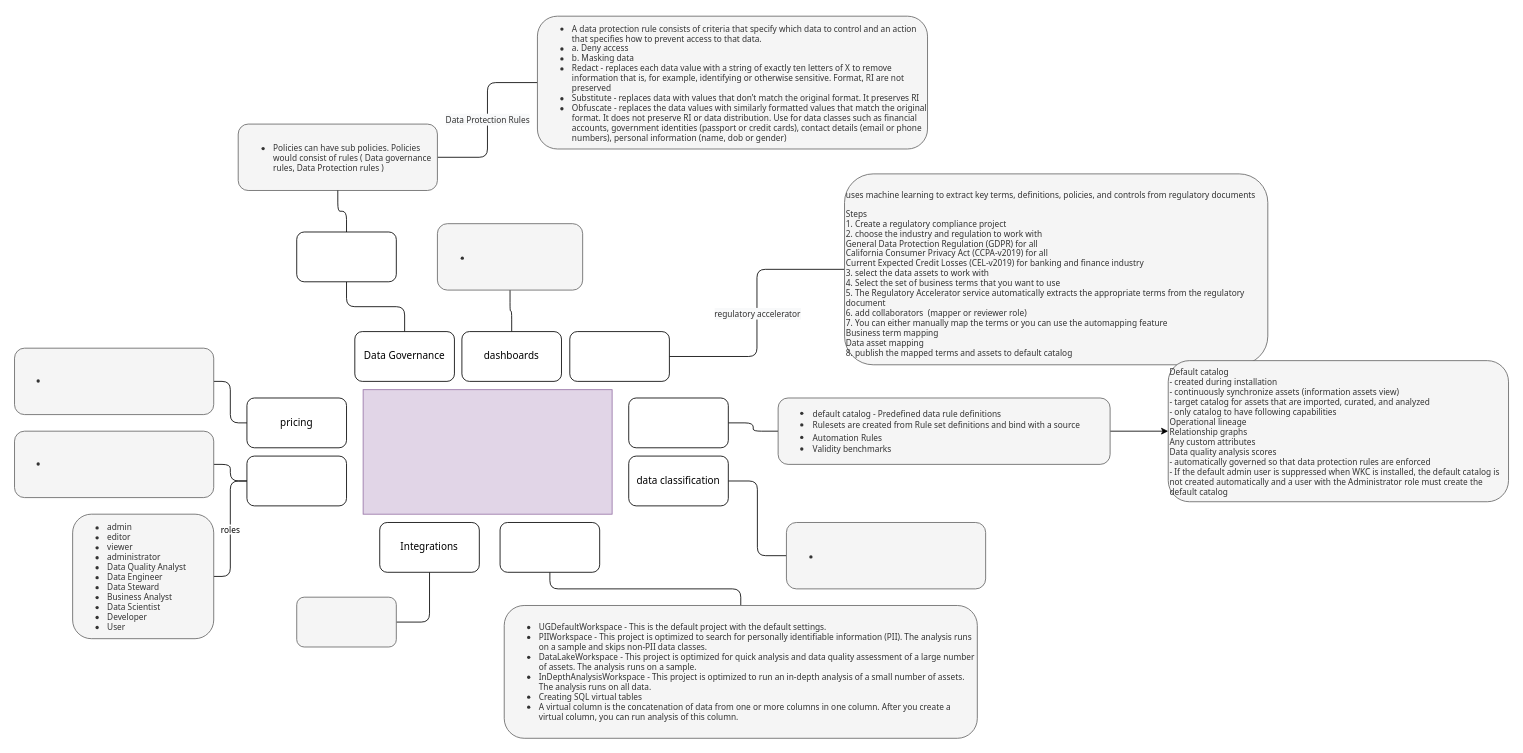
The diagram is 1523 pixels wide and 753 high, and some of its shapes have lost their labels. Here are the shapes that lost their labels. From the top down, the centre of each, then its label:
the point at 346,256: Policies
the point at 619,356: Data privacy
the point at 678,422: Data Catalog
the point at 487,451: IBM Watson Knowledge Catalog
the point at 296,480: Permission and roles
the point at 549,547: Data Quality
